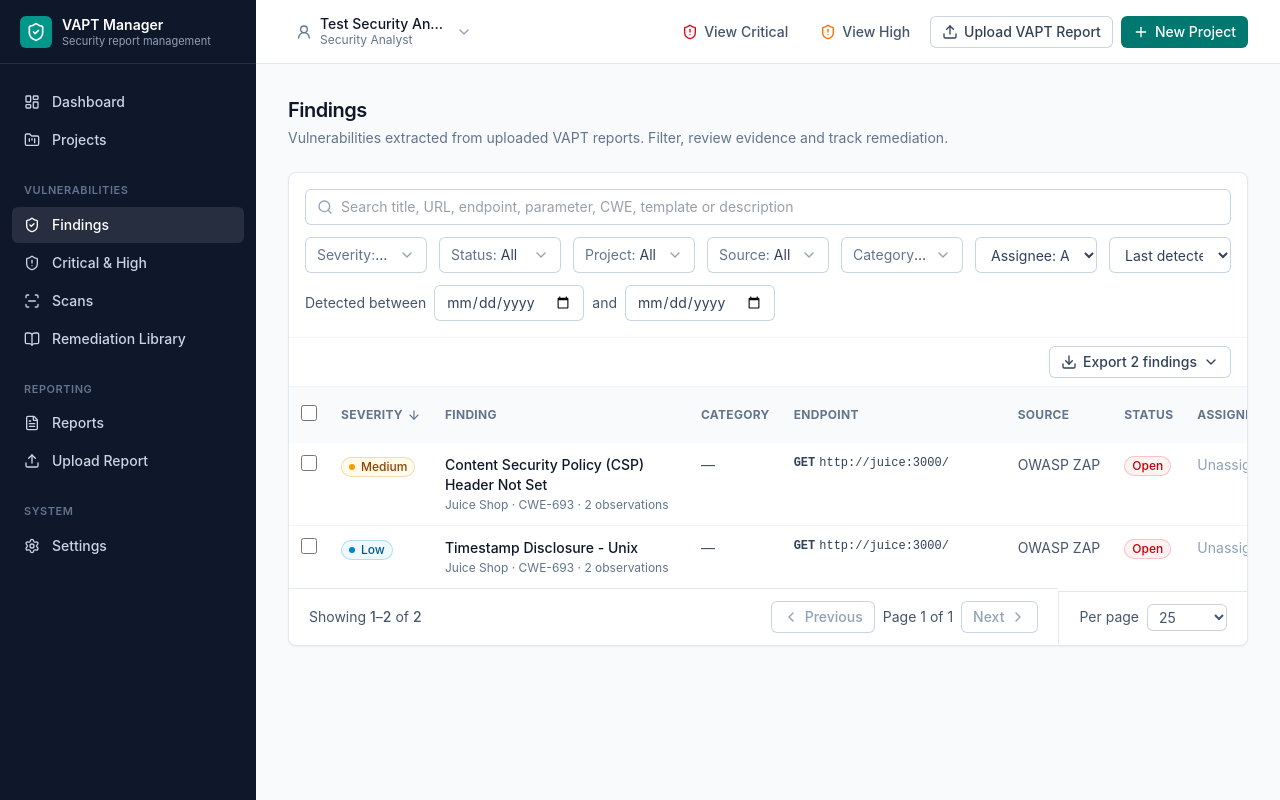
Findings workspace › bulk-updates the selected findings in one request and reloads from the server
Expected: the link "Timestamp Disclosure - Unix" is shown, x1=445 y1=539 x2=638 y2=556
Click the checkbox named "Select all findings on this page" at coordinates (309, 413), box x1=301 y1=405 x2=317 y2=421
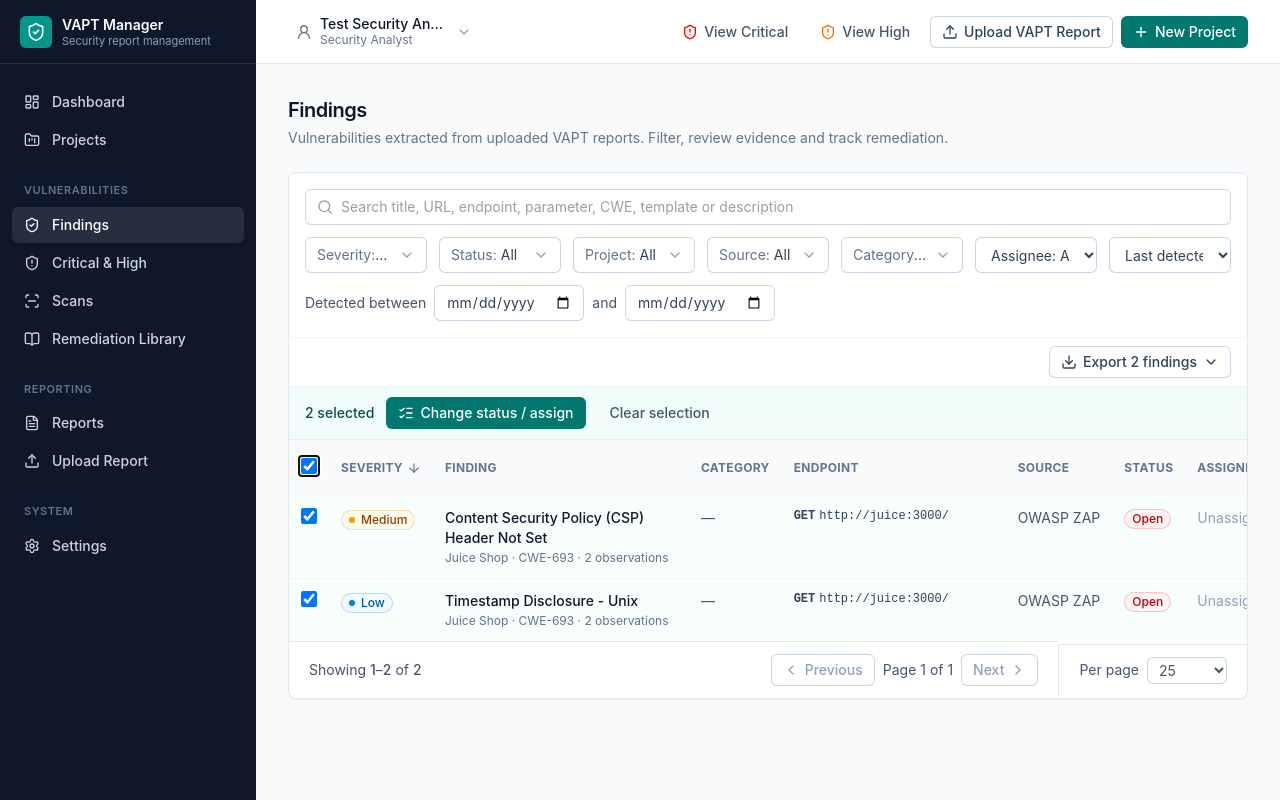
Expected: the element named "Bulk actions" shows "2 selected", x1=289 y1=387 x2=1247 y2=440
Click the button "Change status / assign" at coordinates (486, 413), box x1=386 y1=397 x2=586 y2=429
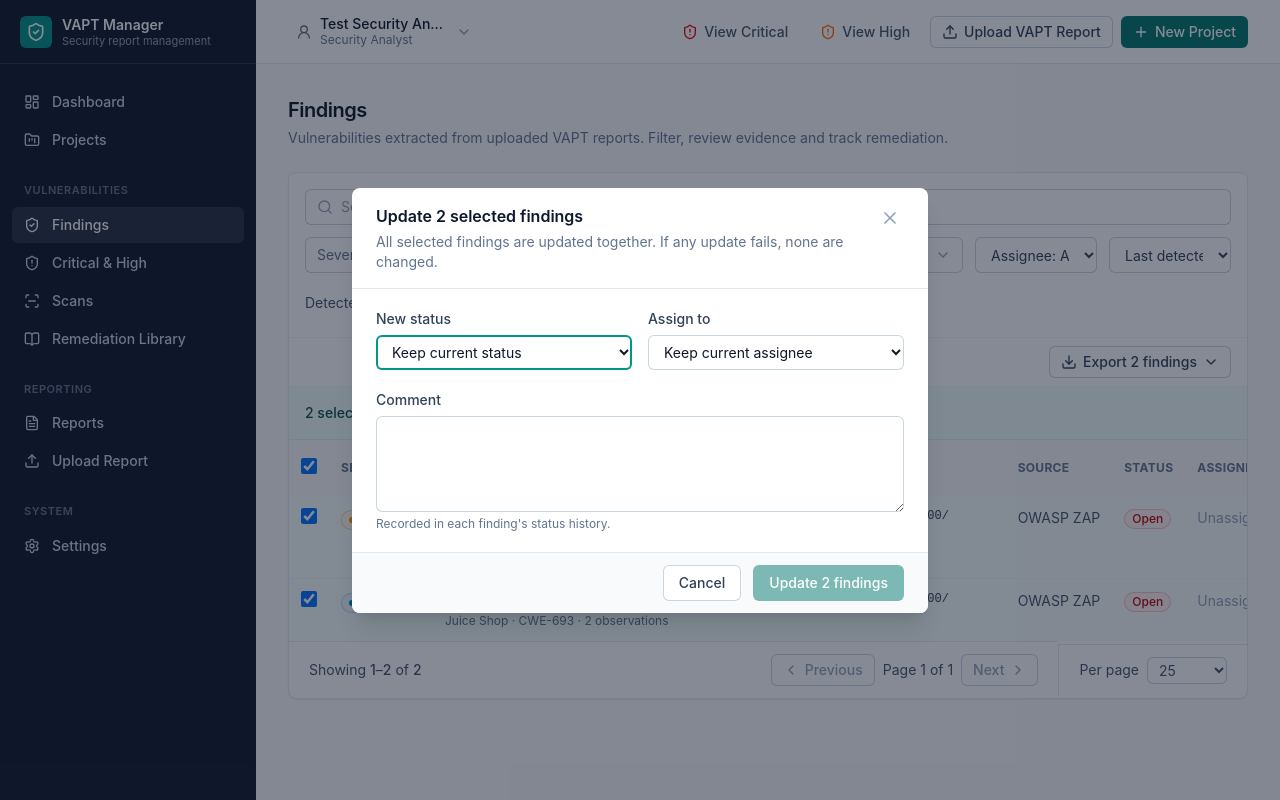
Expected: the button "Update 2 findings" is disabled, x1=753 y1=564 x2=904 y2=600
Select "In Progress" in the dropdown labelled "New status" at coordinates (504, 352), box x1=376 y1=334 x2=632 y2=370
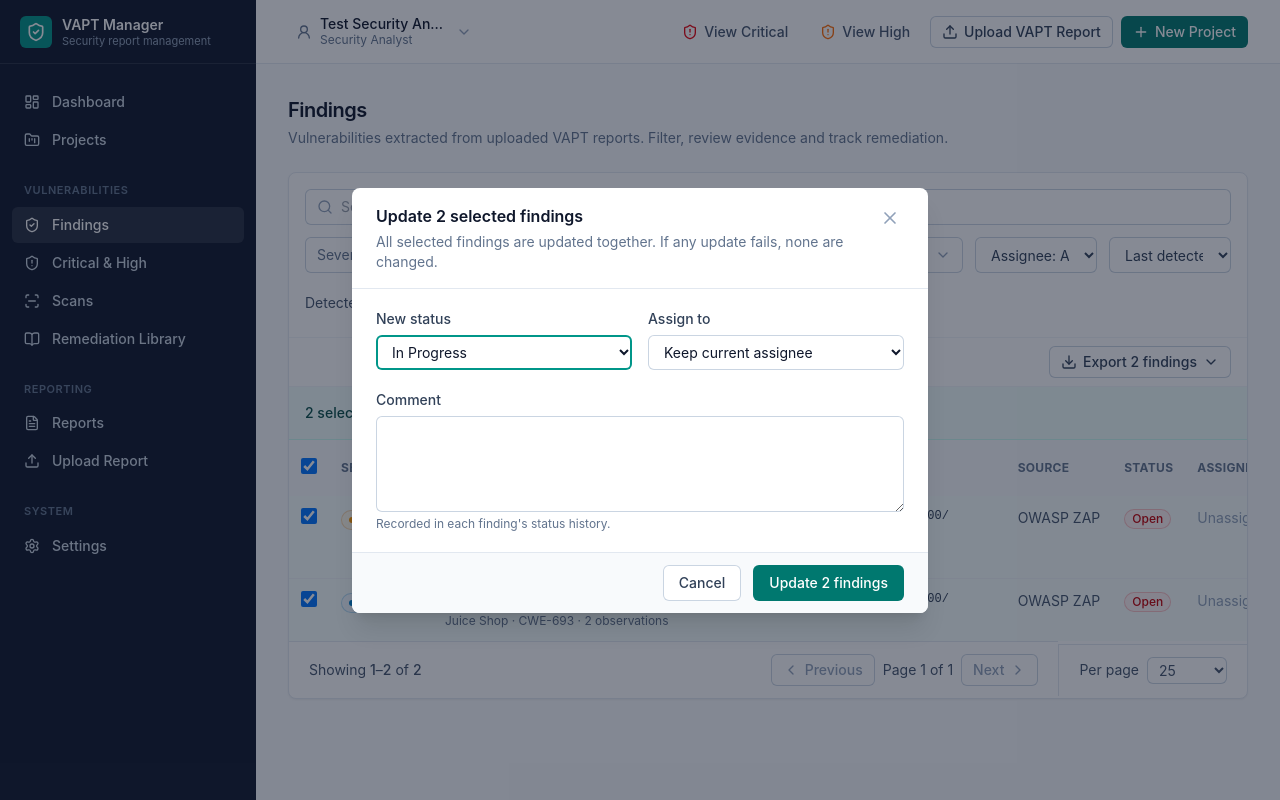
Select "Bob Admin" in the dropdown labelled "Assign to" at coordinates (776, 352), box x1=648 y1=334 x2=904 y2=370
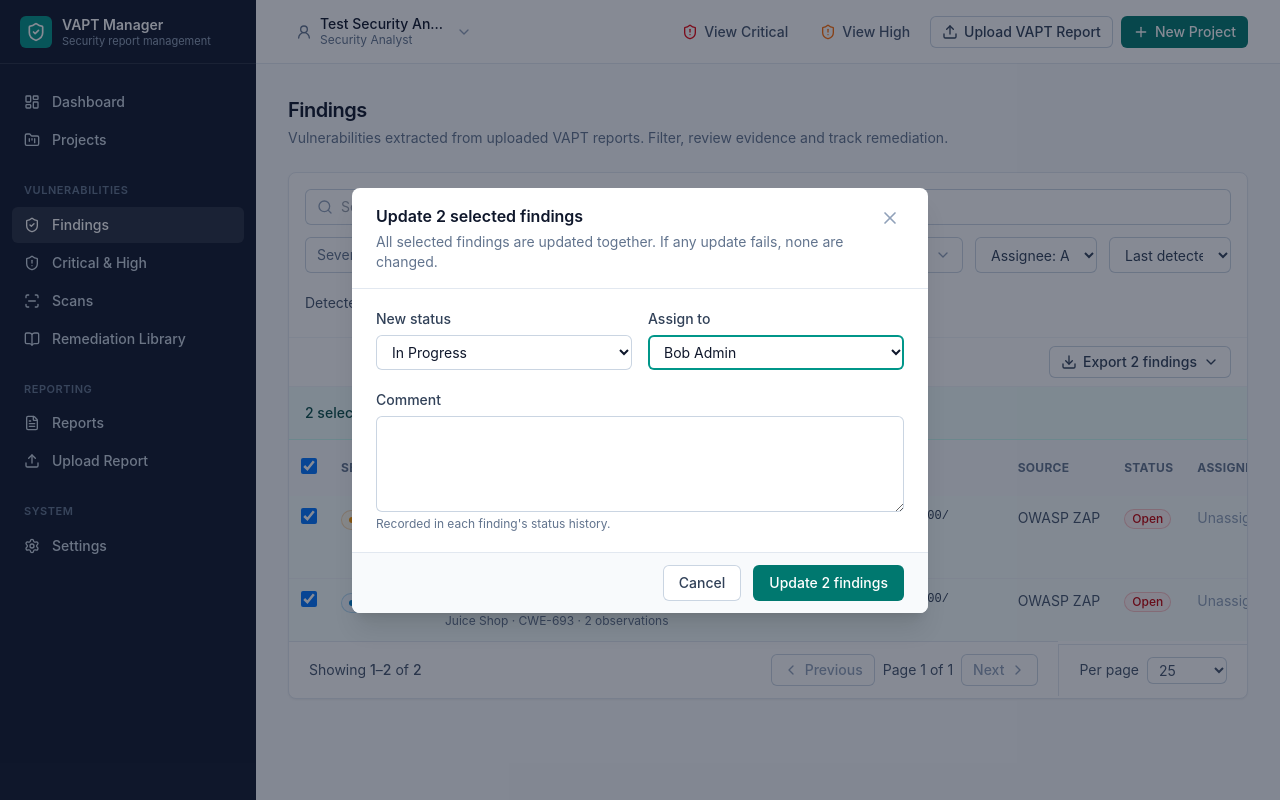
Type "Sprint 42" into the text box labelled "Comment" at coordinates (640, 464), box x1=376 y1=416 x2=904 y2=512
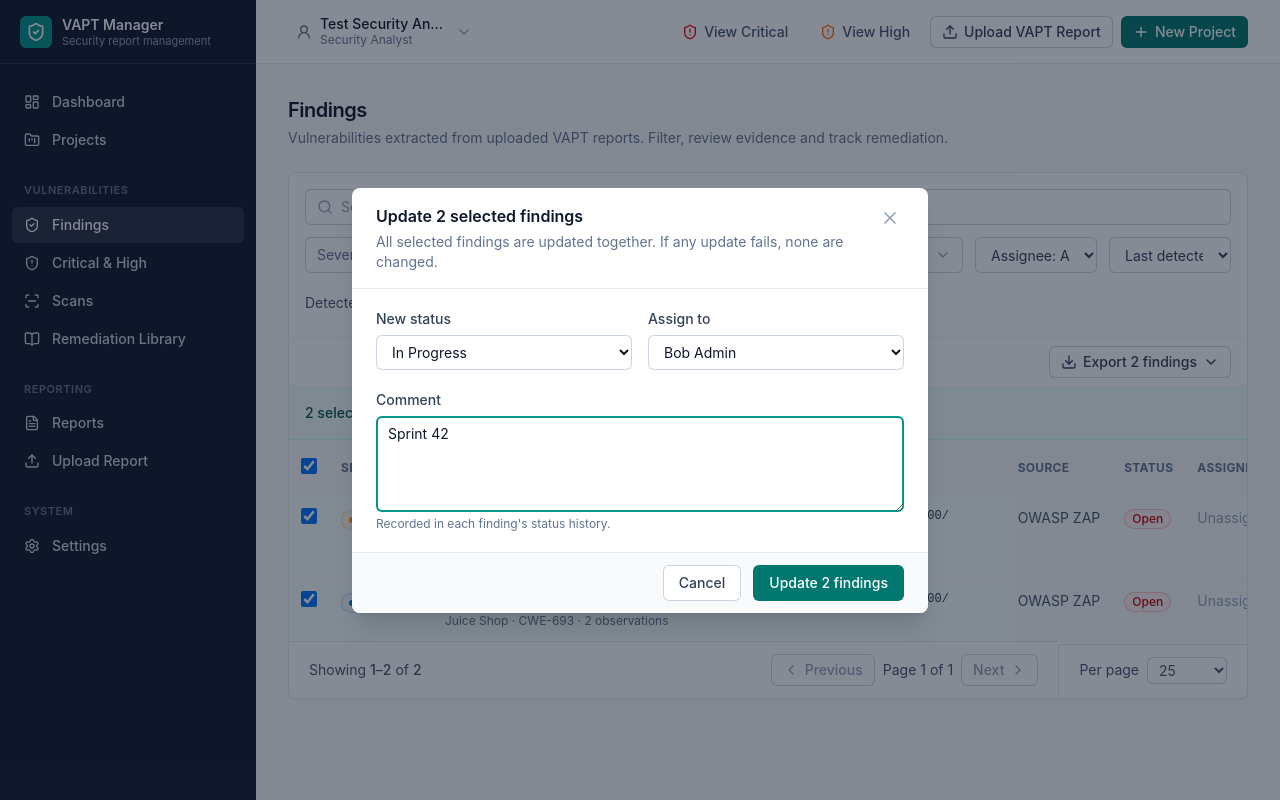
Click the button "Update 2 findings" at coordinates (829, 582), box x1=753 y1=564 x2=904 y2=600
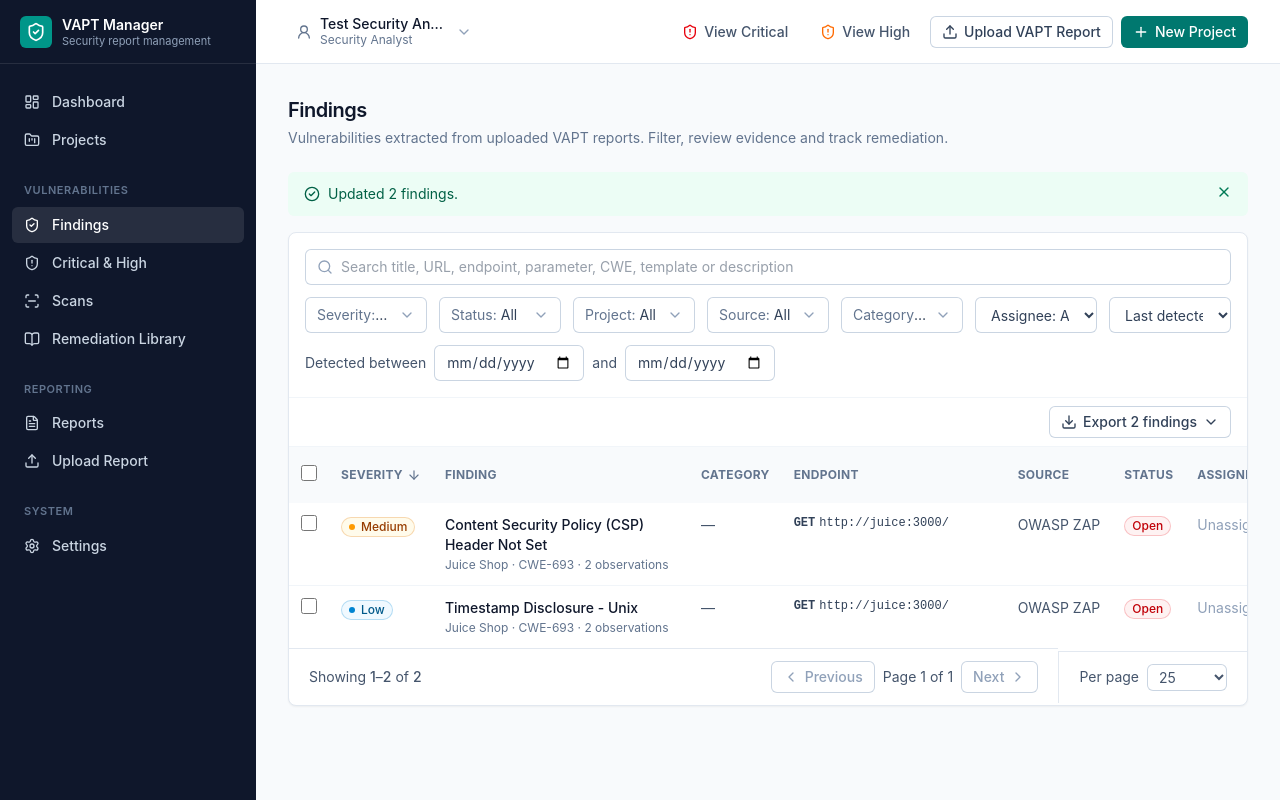
Expected: the text "Updated 2 findings." is shown, x1=304 y1=184 x2=458 y2=204
